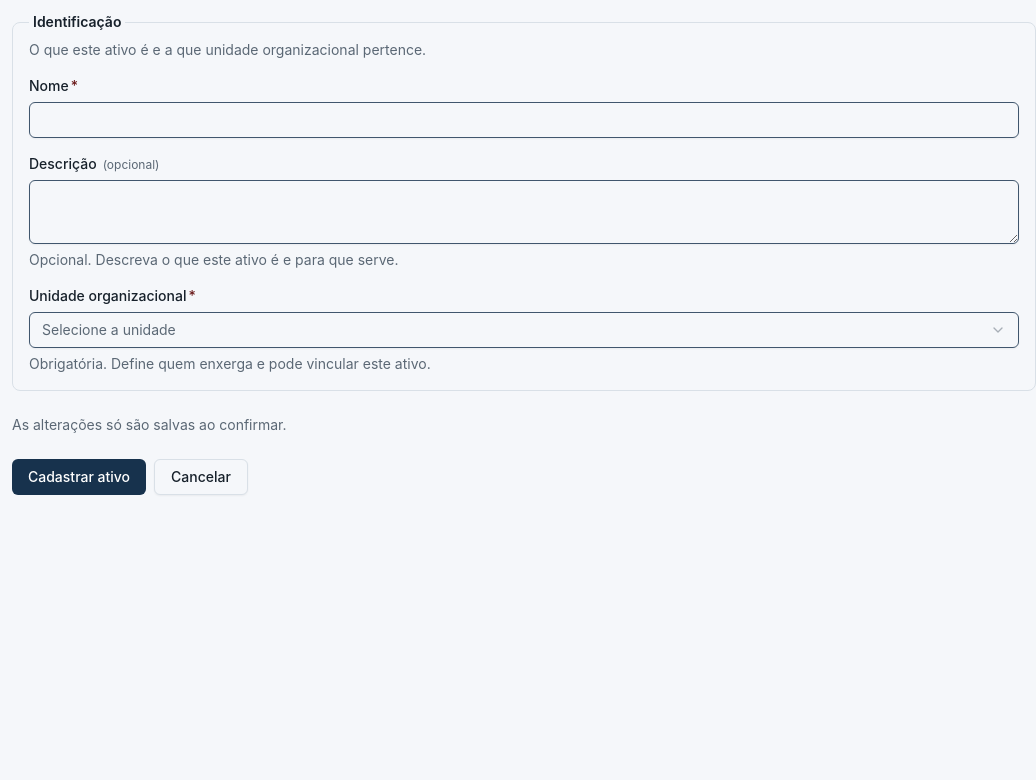
Test: AssetForm › requires name and org unit — description stays optional
Expected: the field labelled "Nome*" is enabled, x1=29 y1=102 x2=1019 y2=138
What coordinates should you click on to do the following:
click the button "Cadastrar ativo"
I would click on:
 (79, 477)
Its box is x1=12 y1=459 x2=146 y2=495.
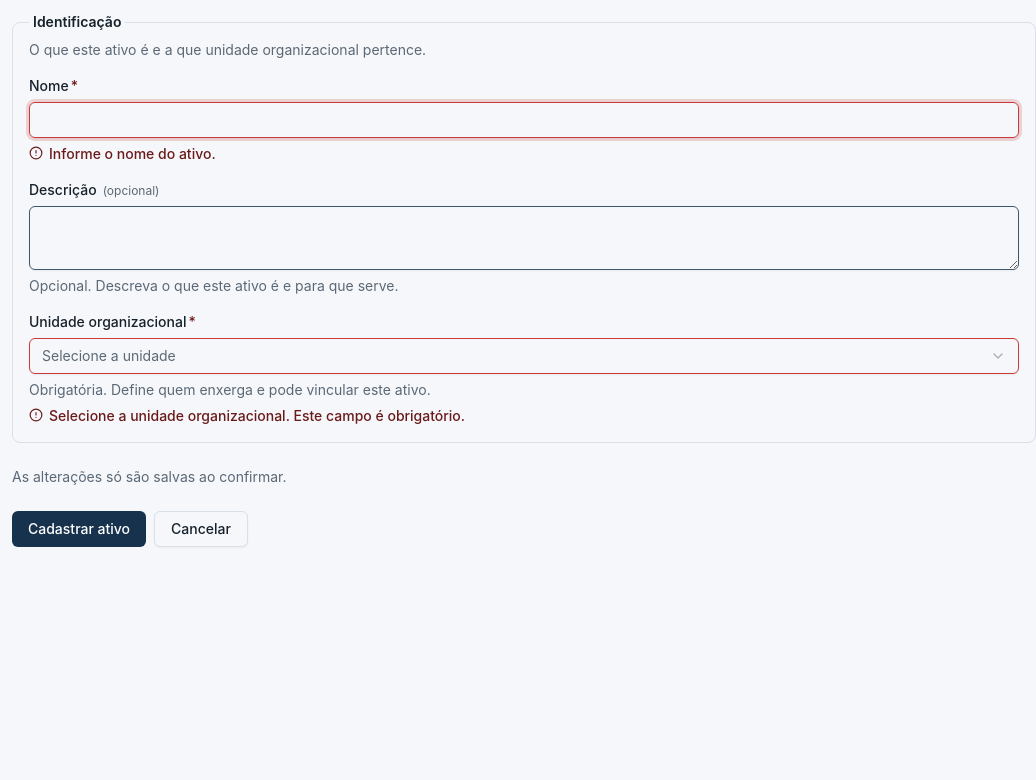
Expected: the text "Informe o nome do ativo." is shown, x1=49 y1=144 x2=216 y2=164
Expected: the text "Selecione a unidade organizacional. Este campo é obrigatório." is shown, x1=49 y1=406 x2=465 y2=426
